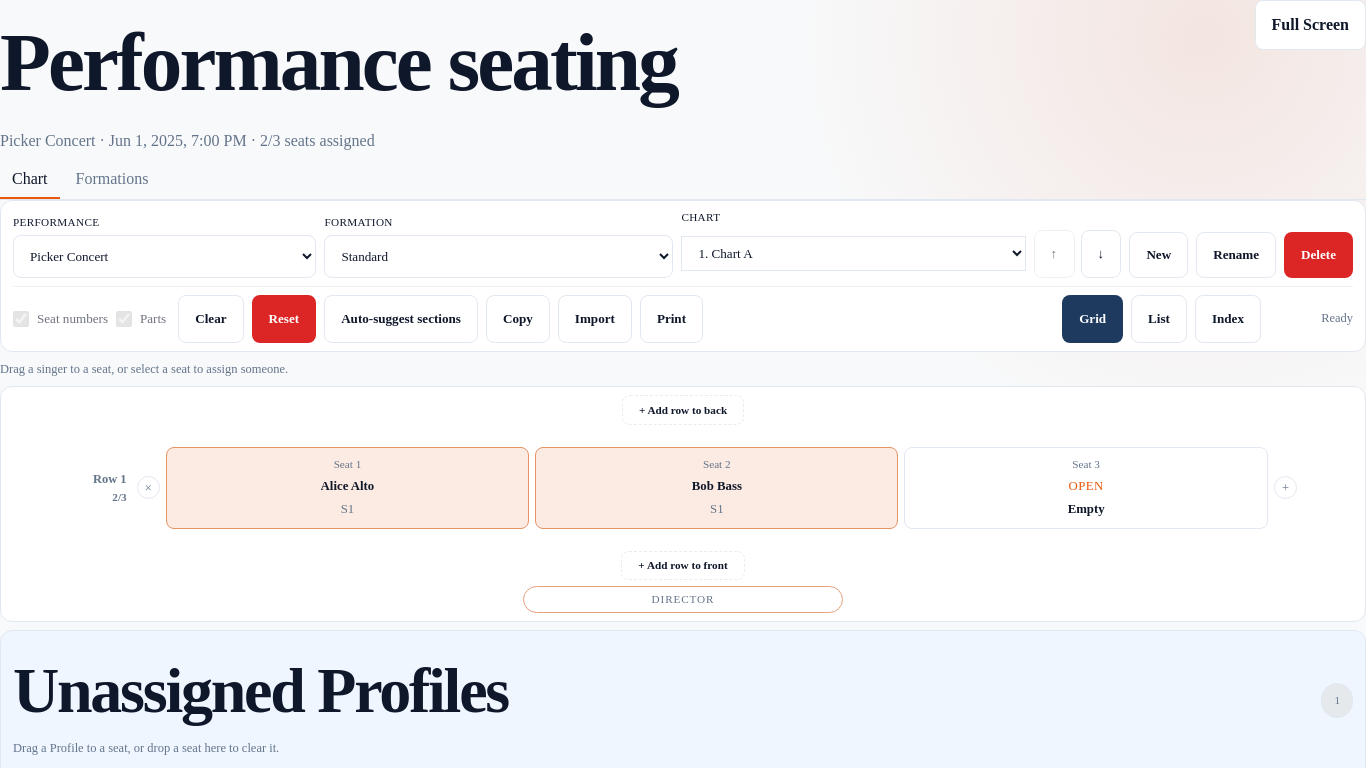
it: Seat assignment candidate picker › makes a Profile available again after unassigning
Click the button named "Seat 1, assigned to Alice Alto" at (347, 488), box x1=166 y1=447 x2=529 y2=529
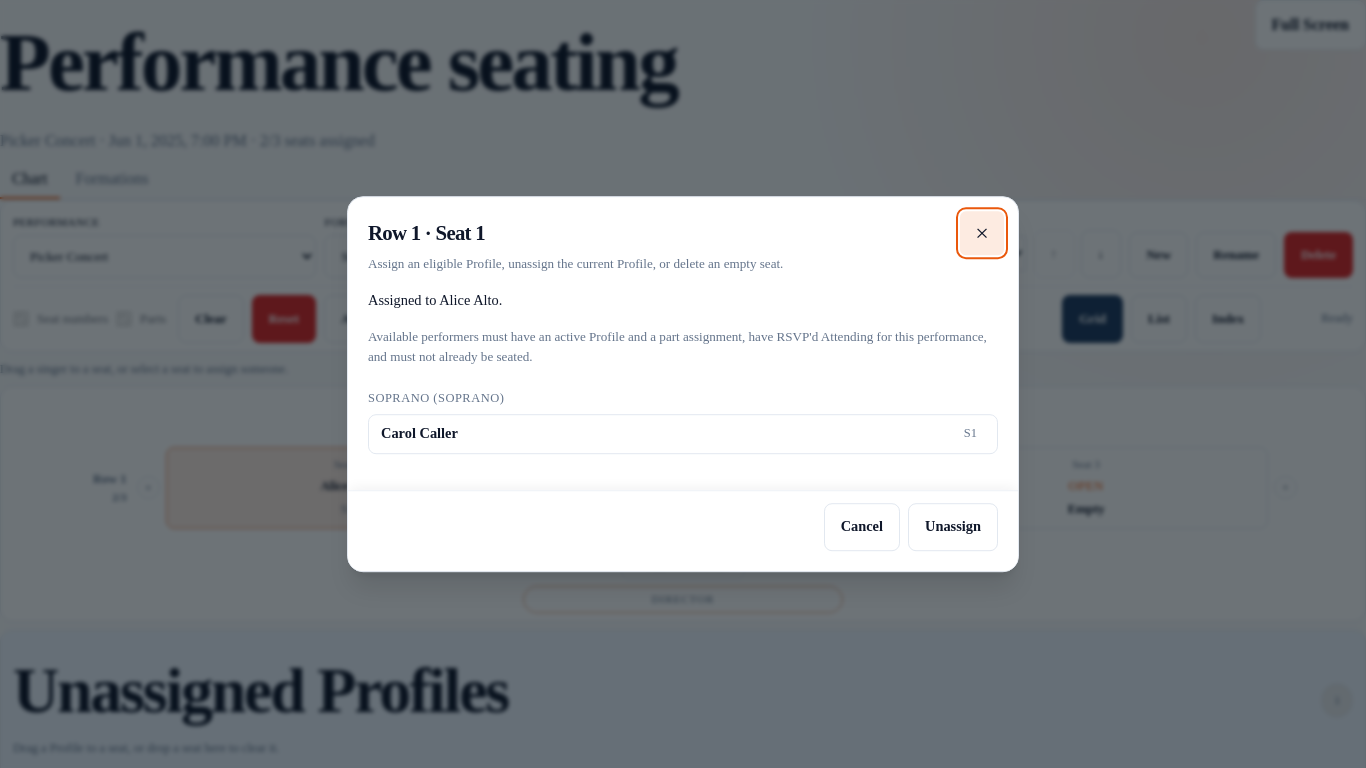
Click the button "Unassign" at (953, 527), box x1=908 y1=503 x2=998 y2=551
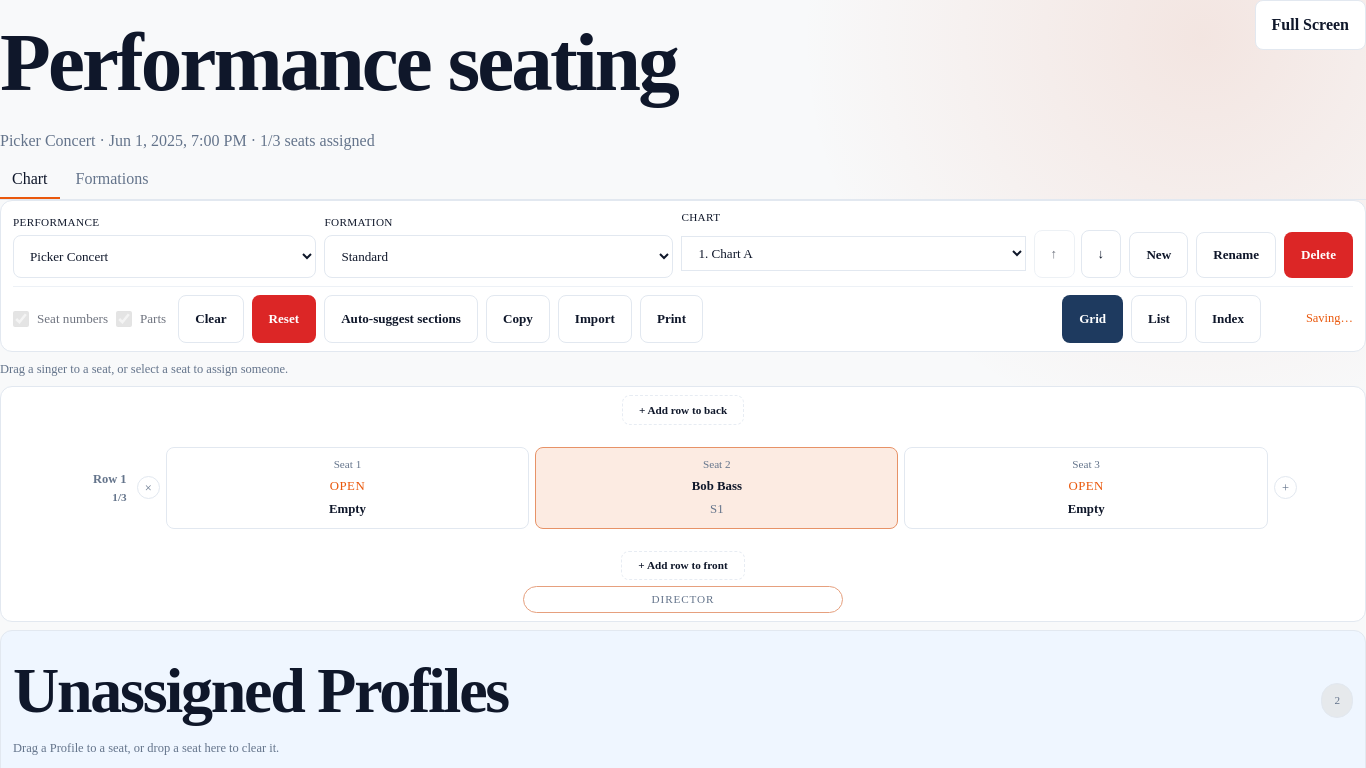
Click the button named "Seat 1, empty" at (347, 488), box x1=166 y1=447 x2=529 y2=529
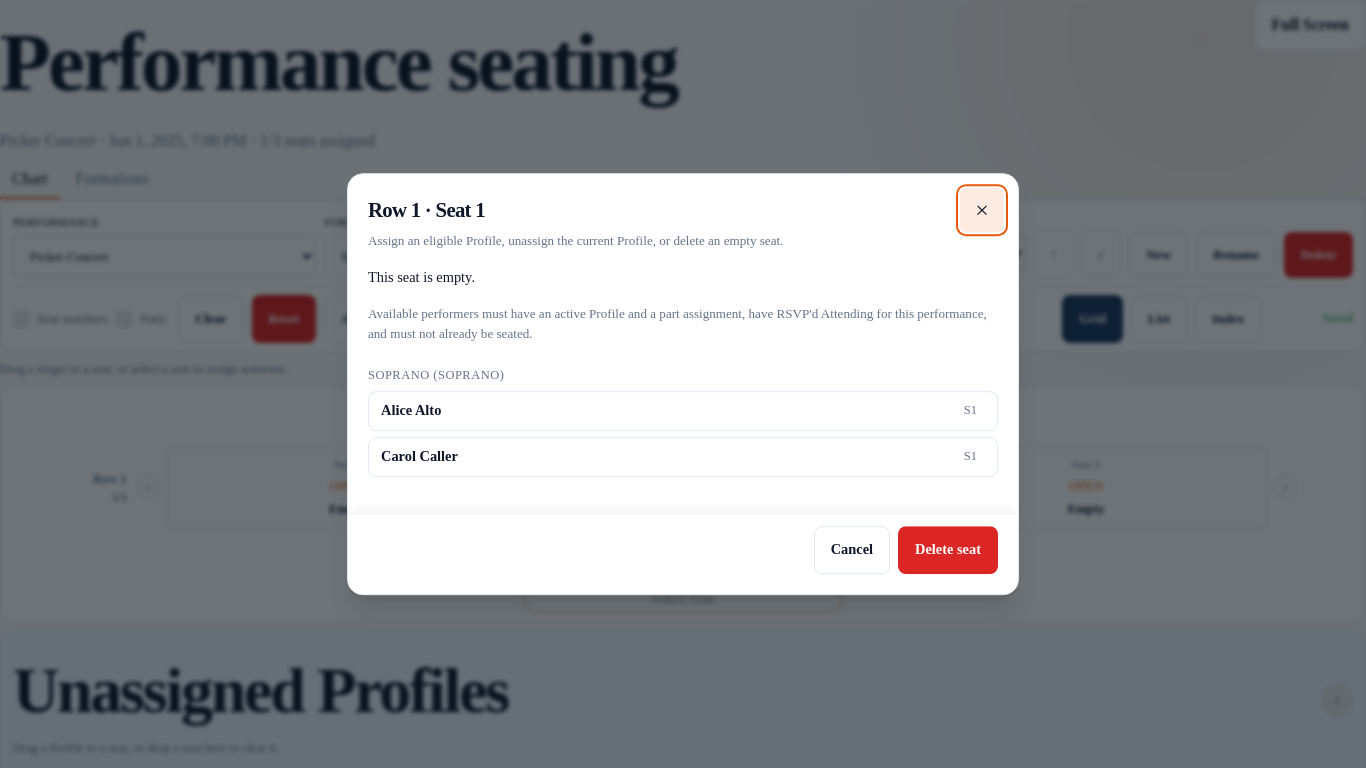
Expected: the button "Alice Alto S1" is shown, x1=368 y1=391 x2=998 y2=431
